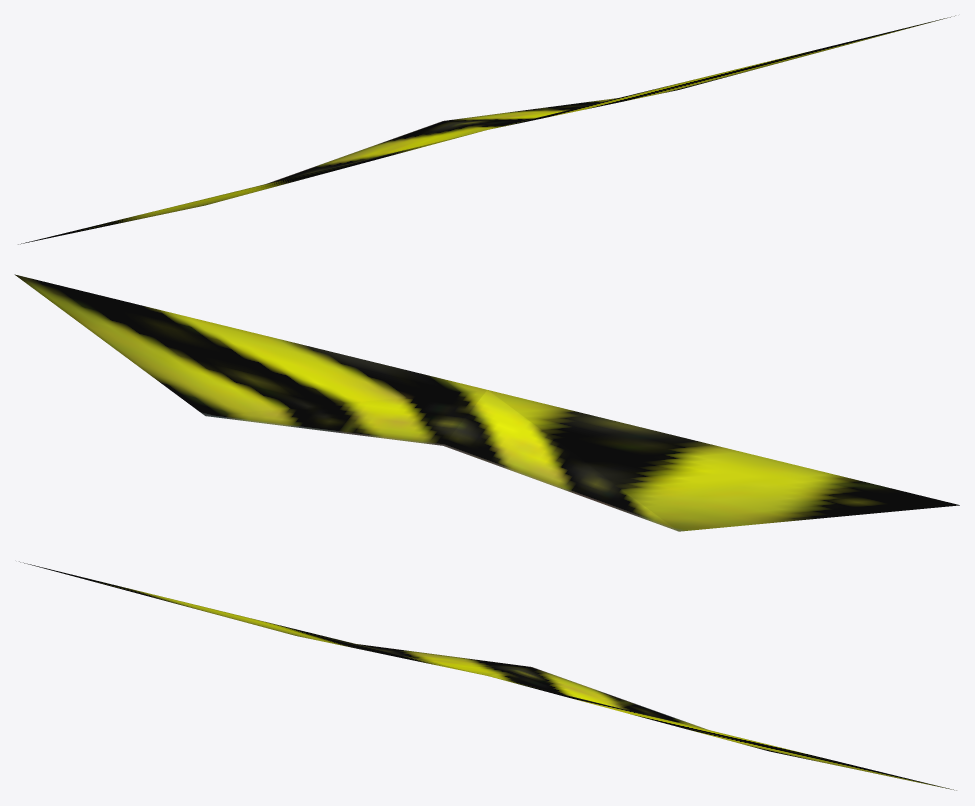
The model's file is Randstein_Flach [Gelb]_519.glb.
3 renders of one model, top to bottom at view 1: azimuth 30°, elevation 25°; view 2: azimuth 150°, elevation 25°; view 3: azimuth 330°, elevation 25°, orthographic.
Visible parts, largest first — view 1: pPlaneShape172; view 2: pPlaneShape172; view 3: pPlaneShape172.
Part boxes in pixels (left/top/right/bottom): pPlaneShape172: left=18, top=15, right=955, bottom=244; pPlaneShape172: left=14, top=274, right=959, bottom=531; pPlaneShape172: left=19, top=561, right=956, bottom=790.
Size of the model in its own units: 1 by 0.0514 by 0.0829.
1 material, 1 textured.
